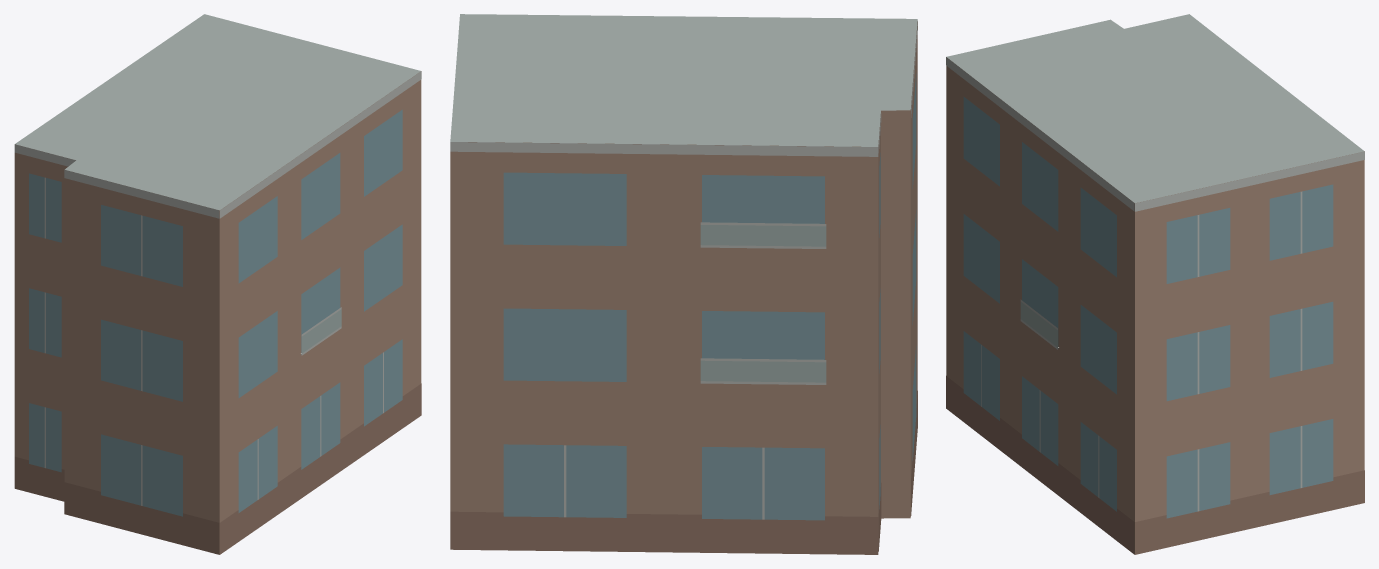
Rendered from survey-upis-32934980.glb.
3 views of the same model, side by side, from view 1: azimuth 30°, elevation 25°; view 2: azimuth 150°, elevation 25°; view 3: azimuth 270°, elevation 25° (orthographic). The views are drawn at different scales.
Visible parts, largest first — view 1: survey-upis-32934980.tmp; view 2: survey-upis-32934980.tmp; view 3: survey-upis-32934980.tmp.
Part boxes in pixels (left/top/right/bottom): survey-upis-32934980.tmp: left=14, top=14, right=421, bottom=554; survey-upis-32934980.tmp: left=450, top=14, right=917, bottom=554; survey-upis-32934980.tmp: left=946, top=14, right=1364, bottom=554.
Bounding box in the file's own units: 11.55 × 10 × 10.8.
